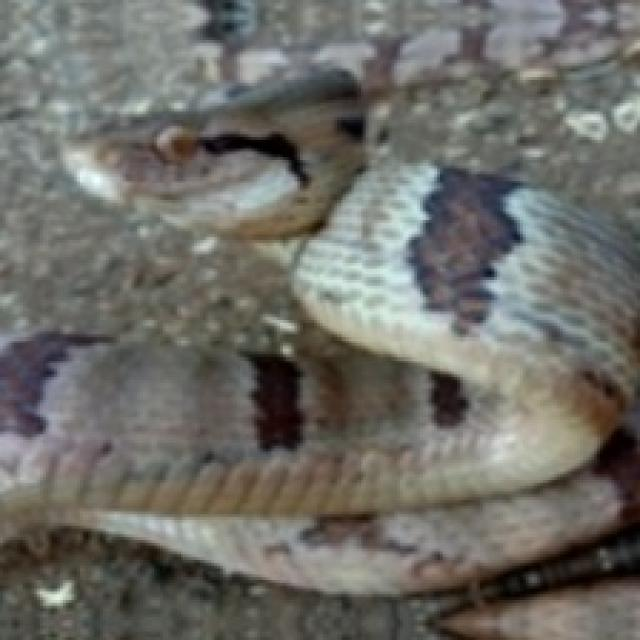dog-toothed cat snake: (0, 0, 637, 637), (289, 240, 440, 366)
